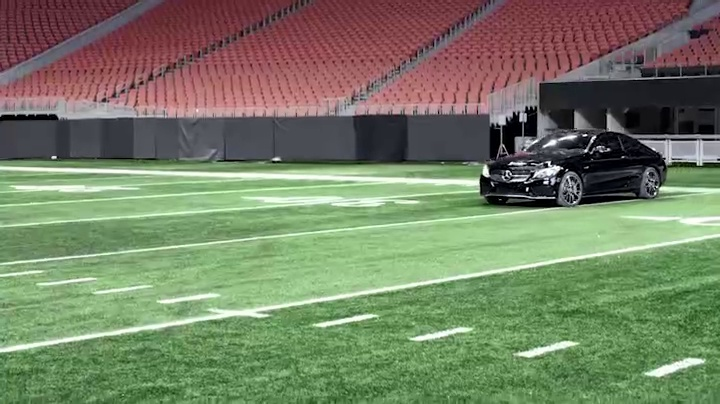amg: (478, 131, 668, 205)
